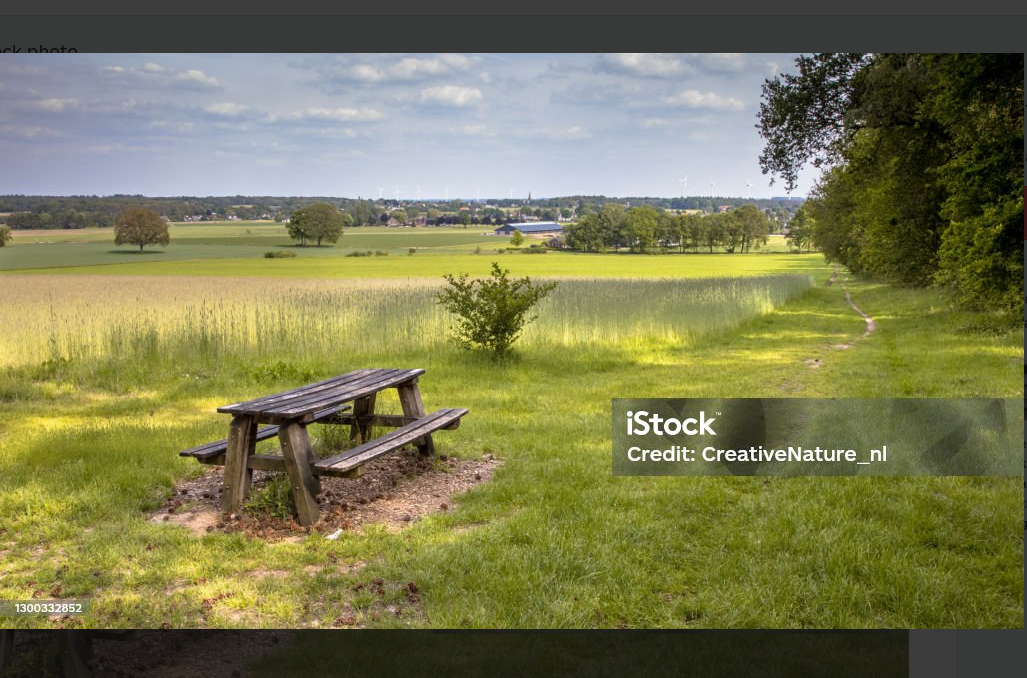obstacle: (186, 362, 473, 515)
